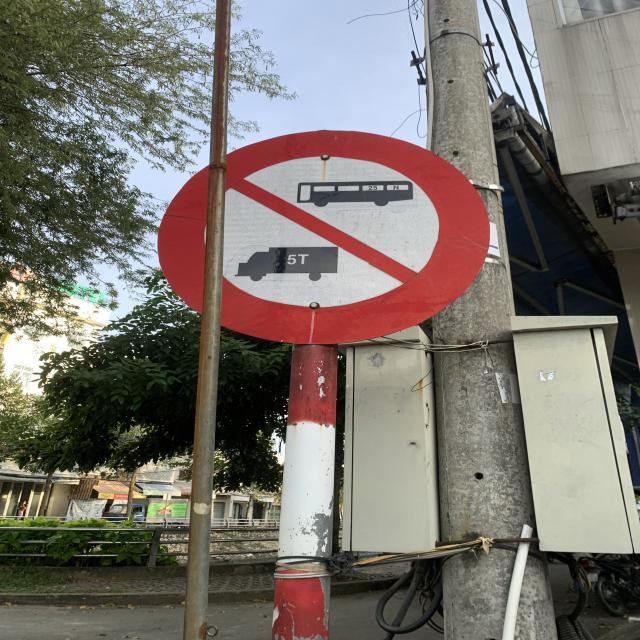Cam_XeTai_XeKhach: (156, 125, 495, 347)
